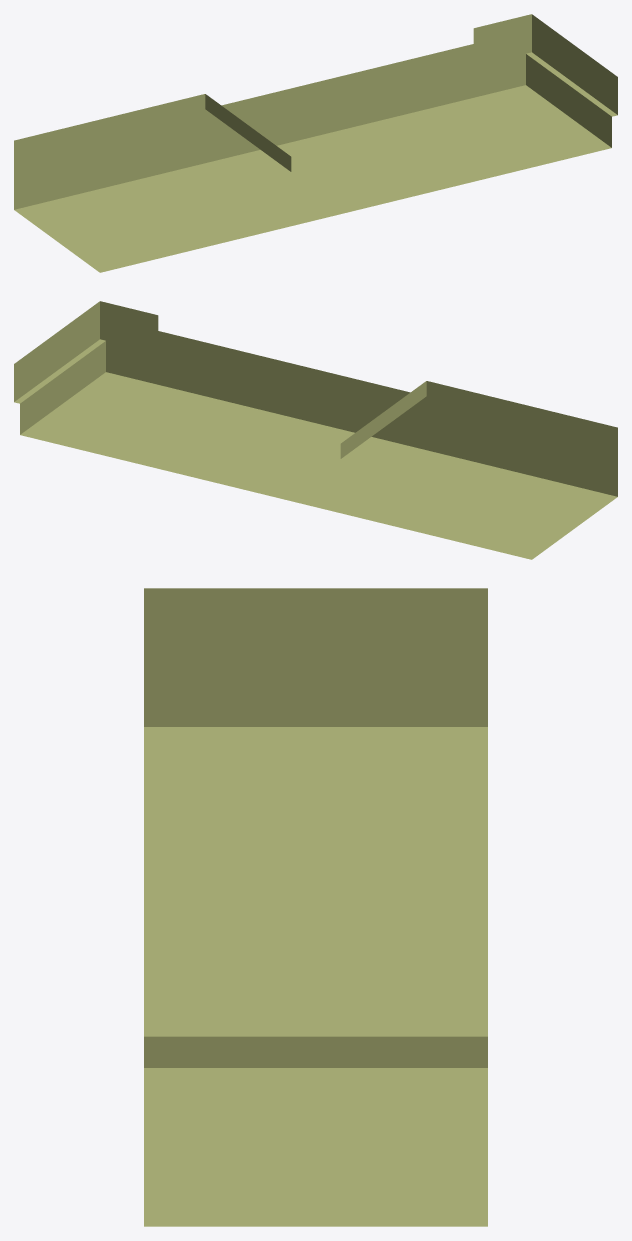
3 views of the same model, one above another, from view 1: azimuth 30°, elevation 25°; view 2: azimuth 150°, elevation 25°; view 3: azimuth 270°, elevation 25° (orthographic). The views are drawn at different scales.
Parts seen in each view (by area): view 1: 0_2_0_1_1_2_2_0_2_0; view 2: 0_2_0_1_1_2_2_0_2_0; view 3: 0_2_0_1_1_2_2_0_2_0.
Part boxes in pixels (left/top/right/bottom): 0_2_0_1_1_2_2_0_2_0: left=14, top=14, right=617, bottom=272; 0_2_0_1_1_2_2_0_2_0: left=14, top=301, right=617, bottom=559; 0_2_0_1_1_2_2_0_2_0: left=144, top=588, right=487, bottom=1226.
Bounding box in the file's own units: 20.84 × 2.67 × 6.
